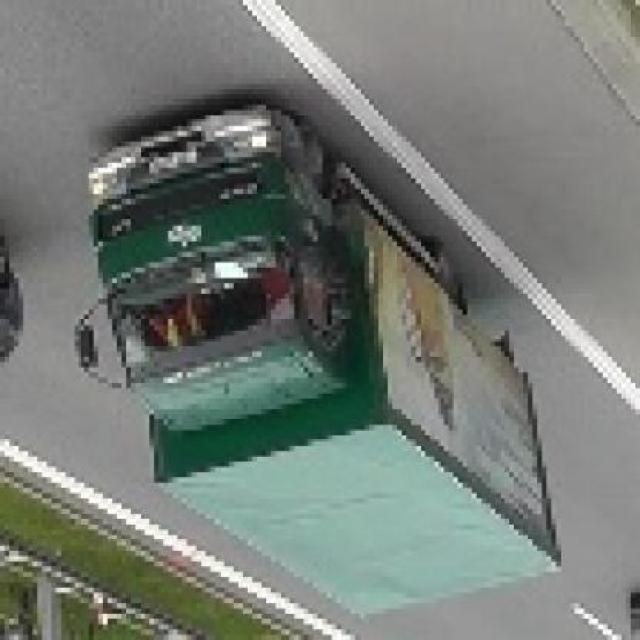truck: (67, 100, 558, 631)
